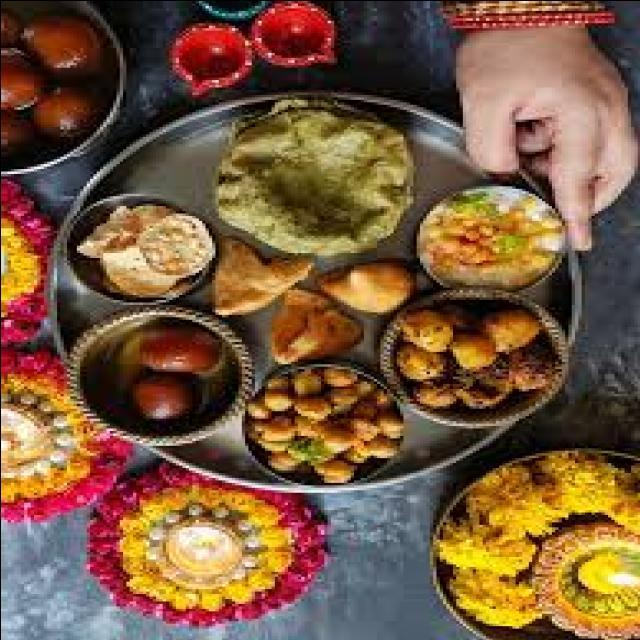papad: (205, 107, 426, 259)
sweet: (47, 195, 223, 312), (8, 11, 130, 163), (98, 311, 240, 434), (414, 185, 568, 292)
